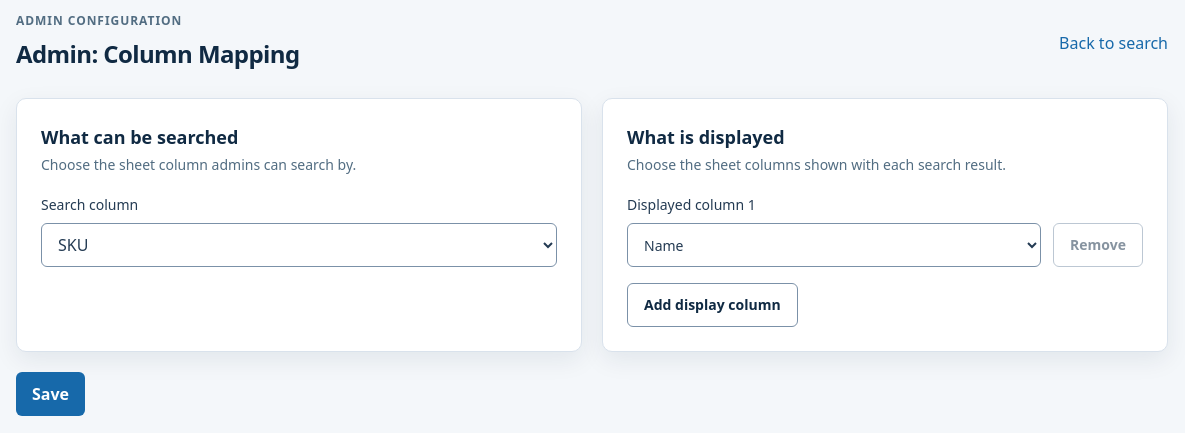
Test: AdminPage › removes displayed rows that match the new search column and restores one empty row when needed
The image size is (1185, 433).
Check: the dropdown labelled "Displayed column 1" shows "Name", box [627,223,1041,267]
Select "Name" in the dropdown labelled "Search column" at (299, 245), box [41,223,557,267]
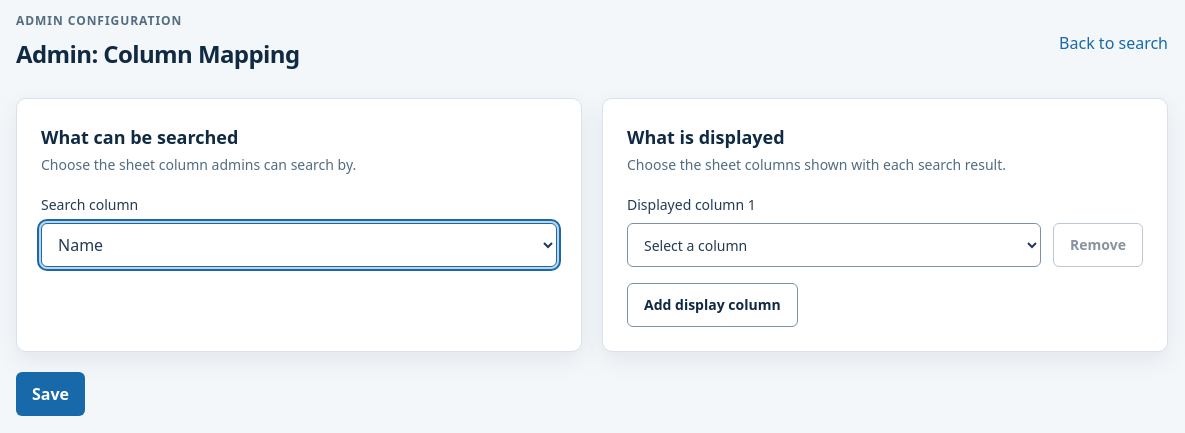
Check: the dropdown labelled "Displayed column 1" shows "Select a column", box [627,223,1041,267]
